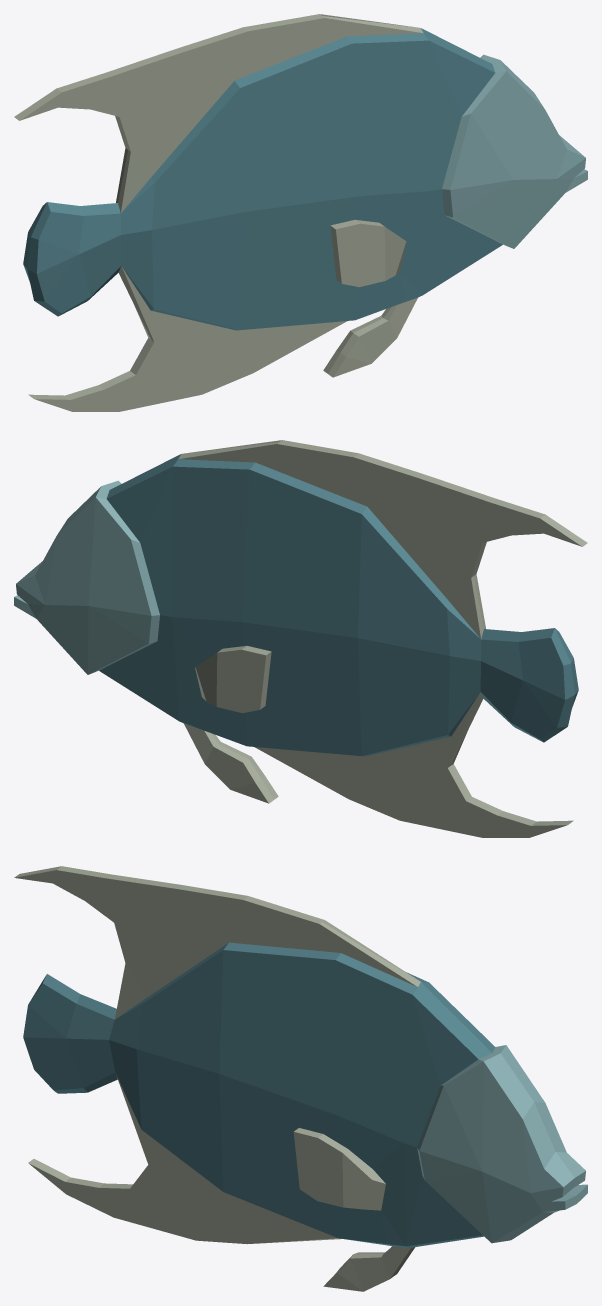
Rendered from Fish2.glb.
3 views of the same model, one above another, from view 1: azimuth 30°, elevation 25°; view 2: azimuth 150°, elevation 25°; view 3: azimuth 330°, elevation 25° (orthographic).
Parts seen in each view (by area): view 1: Fish2; view 2: Fish2; view 3: Fish2.
Part boxes in pixels (left/top/right/bottom): Fish2: left=14, top=14, right=587, bottom=411; Fish2: left=14, top=440, right=587, bottom=837; Fish2: left=14, top=866, right=587, bottom=1291.
Size of the model in its own units: 1 by 0.6228 by 0.1304.
